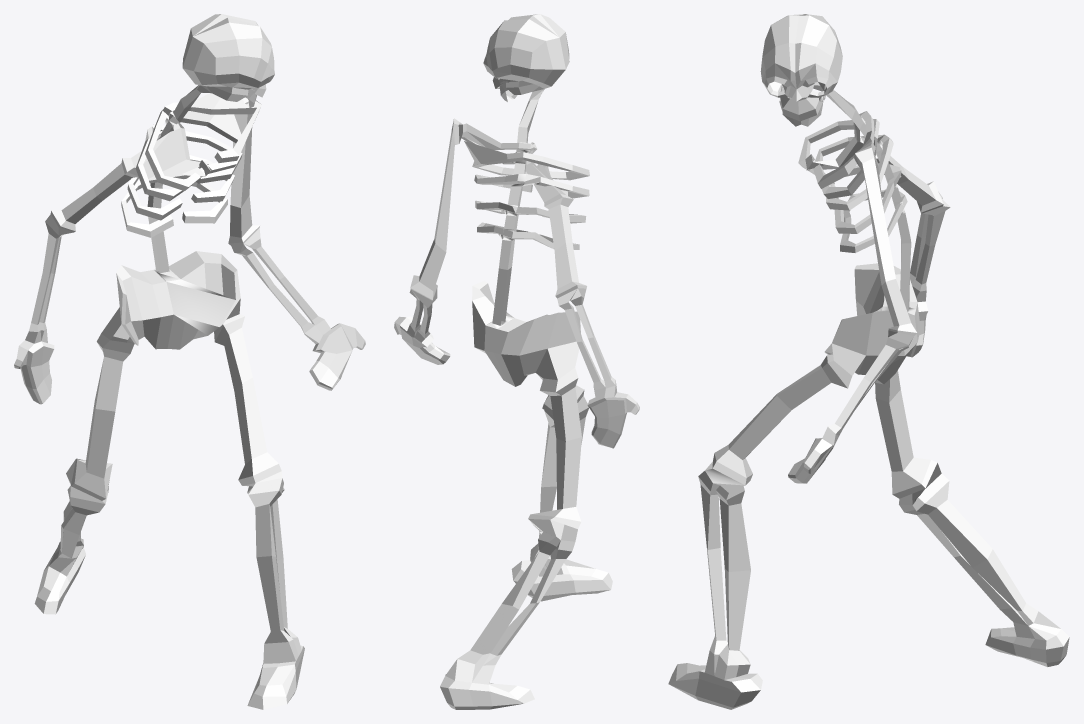
File: SkeletonIdle(28).obj
The picture shows the model from 3 angles, left to right: view 1: azimuth 30°, elevation 25°; view 2: azimuth 150°, elevation 25°; view 3: azimuth 270°, elevation 25°; orthographic projection. The views are drawn at different scales.
Parts seen in each view (by area): view 1: Object002; view 2: Object002; view 3: Object002.
Boxes of the visible parts, x1,y1,x2,y2 form: Object002: (14,14,365,709); Object002: (394,14,639,709); Object002: (668,14,1069,709).
Bounding box in the file's own units: 551 × 1113 × 599.
